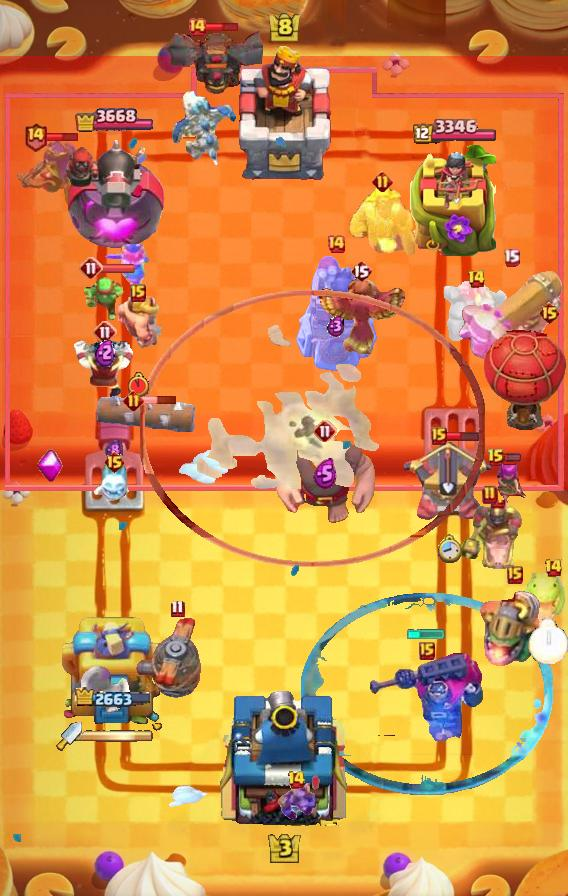archer-evolution: (163, 28, 263, 96)
balloon: (271, 433, 379, 525)
bar: (62, 611, 166, 731)
barbarian-hut: (8, 137, 90, 219)
bat: (91, 463, 136, 505)
cannon: (487, 463, 529, 509)
cannon-cart: (484, 328, 568, 430)
dark-prince: (132, 615, 222, 699)
electro-spirit: (313, 459, 337, 490), (95, 337, 115, 366), (327, 315, 345, 337), (105, 439, 123, 461)
electro-wizard: (522, 573, 568, 625)
elixir: (528, 618, 568, 664), (436, 533, 462, 563), (128, 372, 149, 398)
emote: (204, 21, 240, 33), (44, 131, 80, 143), (444, 430, 479, 442), (100, 262, 136, 273), (142, 395, 178, 405), (502, 453, 521, 464)
freeze: (456, 500, 524, 574)
furnace: (456, 270, 566, 376)
giant-snowball: (83, 272, 125, 324)
goblin-giant: (115, 295, 161, 349)
goblin-hut: (349, 184, 415, 257)
golden-knight: (313, 278, 409, 356)
hog-rider: (103, 242, 151, 296)
ice-spirit: (406, 627, 448, 639)
inferno-tower: (367, 649, 487, 741)
king-tower: (214, 684, 354, 826), (230, 43, 338, 181)
king-tower-bar: (82, 729, 154, 743)
lava-pup: (403, 440, 495, 522)
lumberjack: (70, 339, 140, 399)
mini-pekka: (170, 87, 240, 171)
minion: (96, 396, 198, 432)
night-witch: (477, 589, 553, 667)
pad_0: (301, 592, 553, 796)
queen-tower: (410, 144, 496, 255)
royal-delivery: (275, 781, 317, 821)
royal-ghost: (140, 290, 485, 567)
royal-giant: (80, 666, 134, 726)
selected: (75, 105, 153, 136), (410, 118, 496, 145), (75, 686, 153, 710)
skeleton-king-skill: (37, 449, 63, 483)
text: (23, 121, 48, 152), (79, 256, 103, 280), (93, 320, 117, 344), (313, 419, 337, 443), (539, 301, 562, 325), (102, 450, 125, 474), (350, 259, 372, 283), (371, 171, 392, 193), (123, 390, 144, 411), (187, 17, 207, 37), (326, 234, 346, 254), (544, 558, 564, 578), (466, 269, 485, 289), (287, 770, 306, 790), (487, 448, 505, 468), (503, 248, 520, 267), (482, 485, 498, 505), (130, 284, 146, 302), (431, 427, 447, 445), (507, 566, 523, 584), (419, 642, 435, 660), (170, 598, 185, 617)
tower-bar: (60, 132, 167, 256)
valkyrie-evolution: (443, 280, 509, 342)
zappy: (293, 254, 378, 376)
